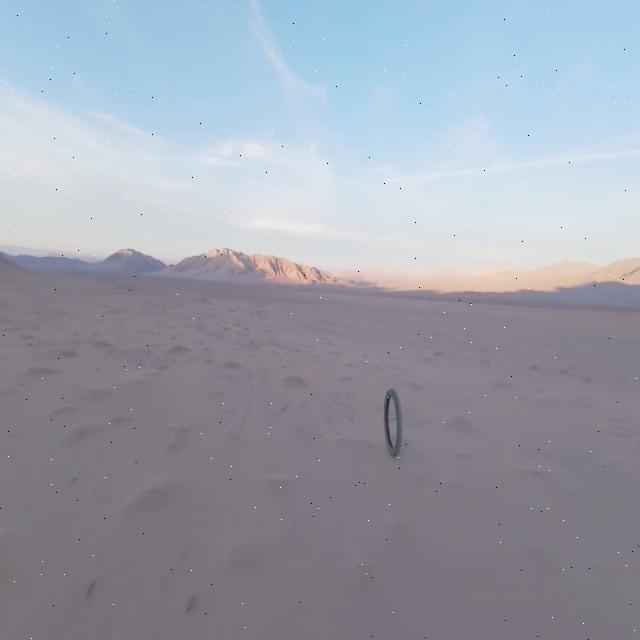Tire: (384, 388, 402, 457)
